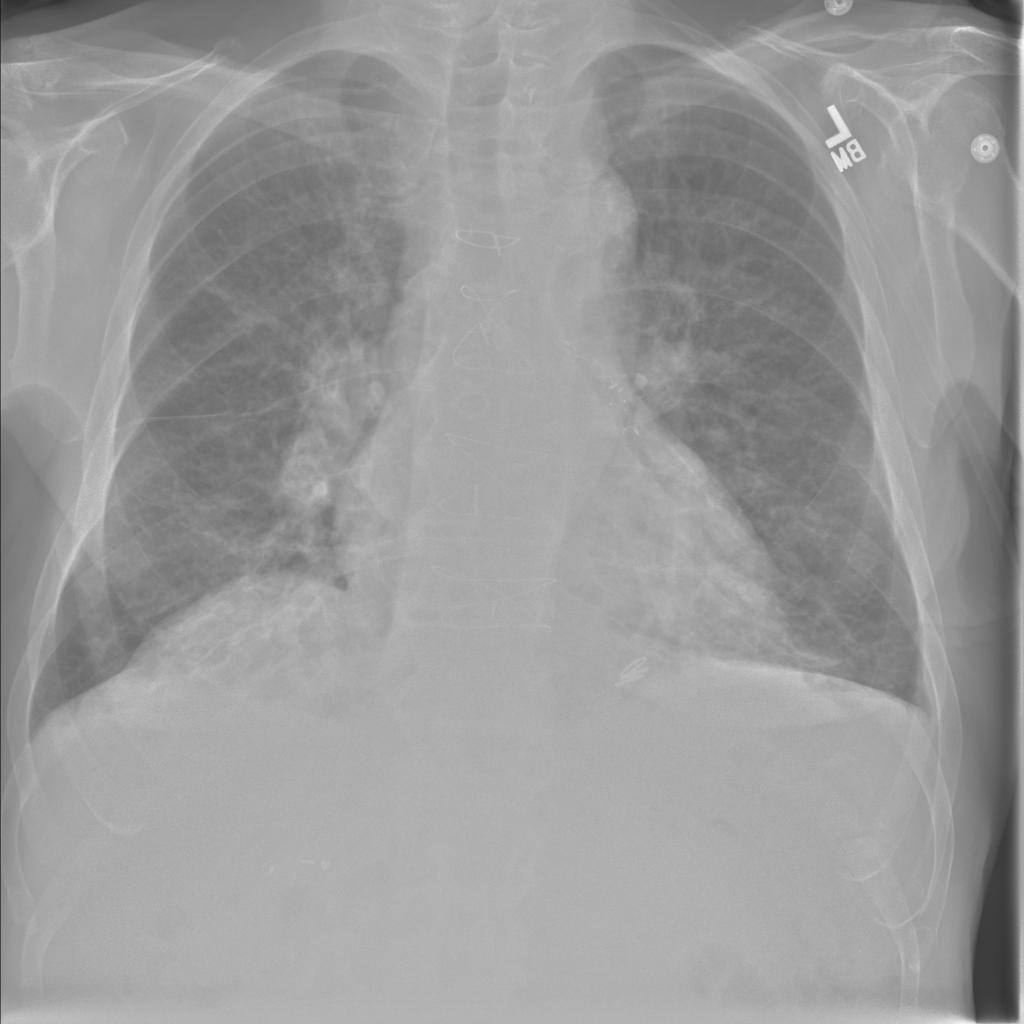Nodule: (99, 207, 130, 233), (113, 256, 120, 263)
